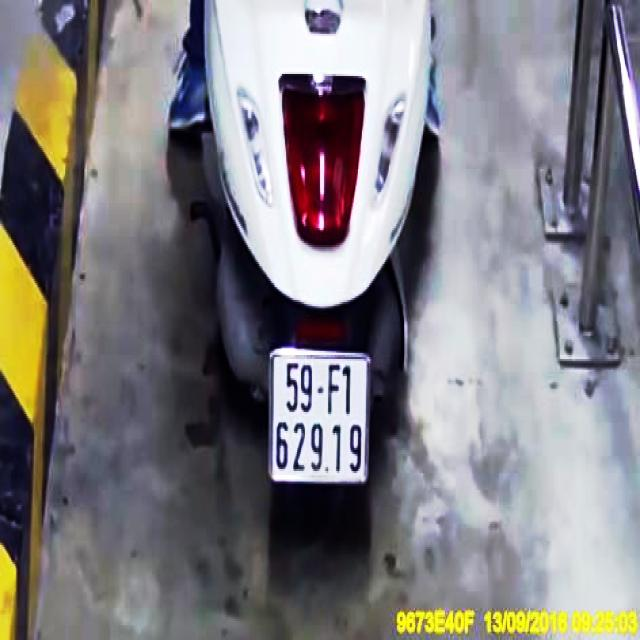license_plate: (267, 350, 371, 486)
